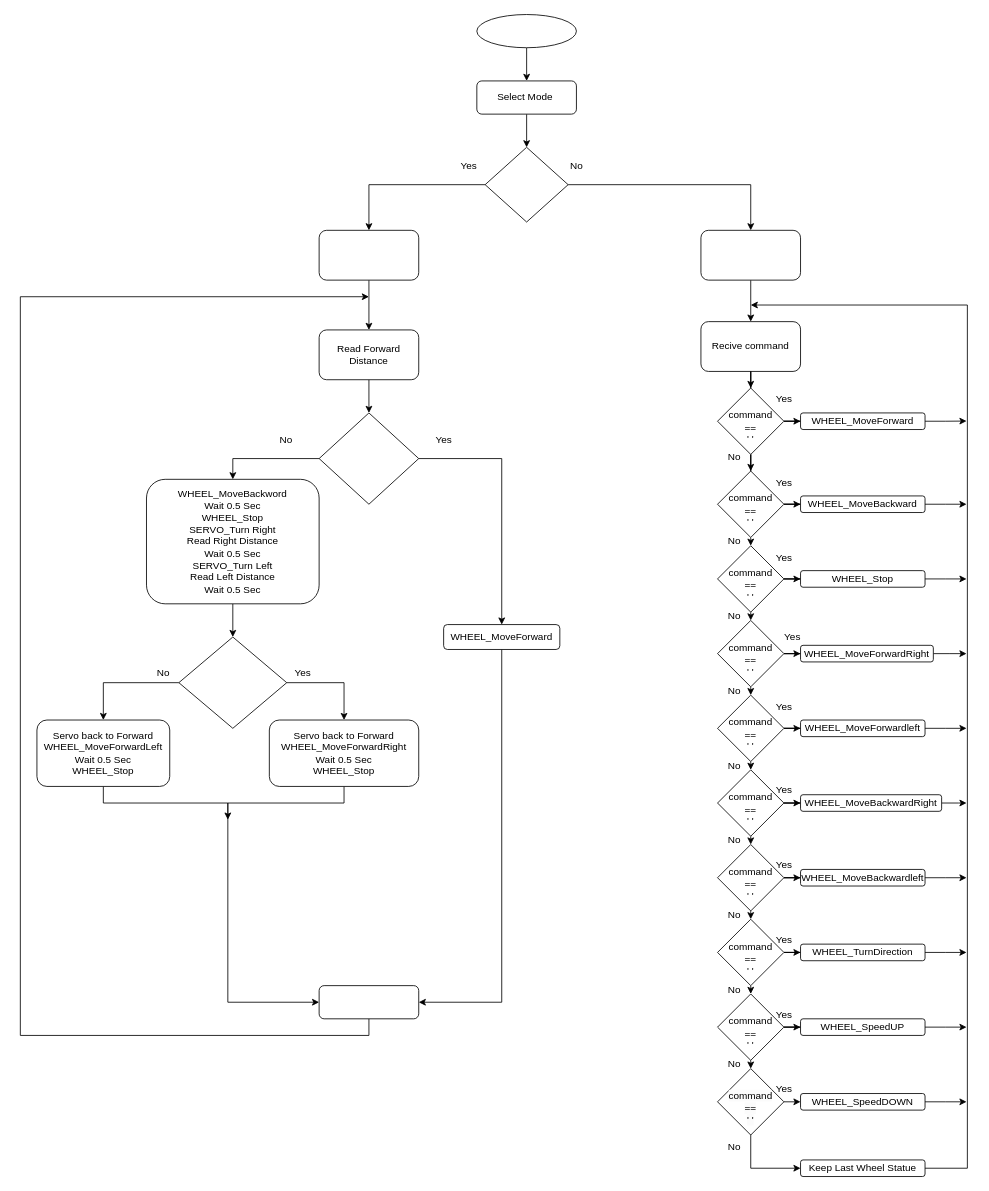
Image size: 989x1191. Some labels were removed from this diagram. The centre of each missing label's shape, as x and y in pixels:
Forward Distance>30CM: [368,458]
initialize Bluetooth: [750,254]
initialize Ultrasonic initialize Servo: [368,254]
Right Distance> Left Distance: [232,682]
Start: [526,31]
Ultrasonic MODE?: [526,184]
WAIT 0.5 SEC: [368,1002]
